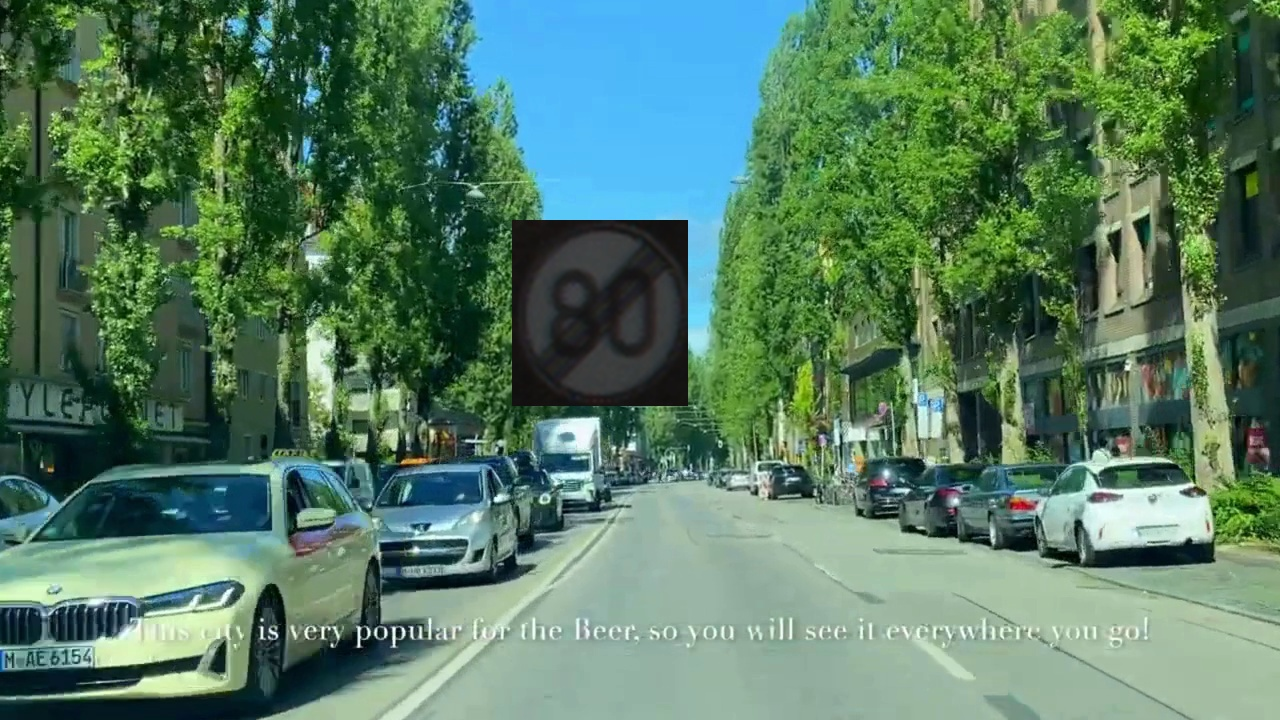End Speed 80: (512, 220, 688, 406)
